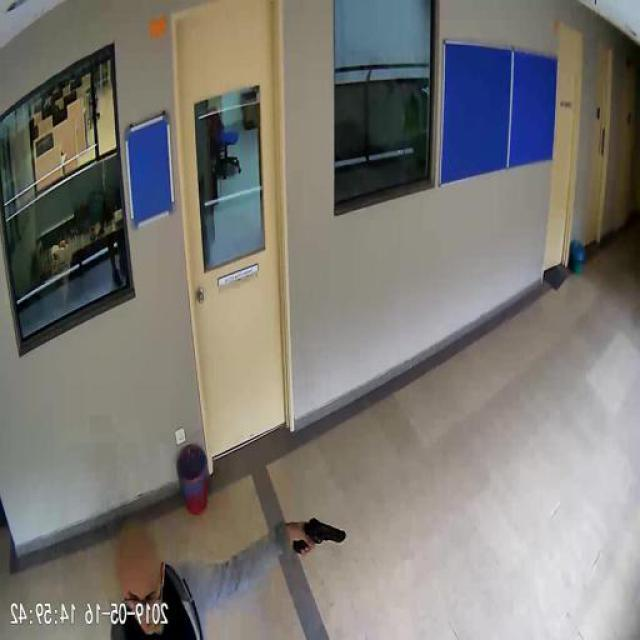Gun: (294, 515, 348, 555)
